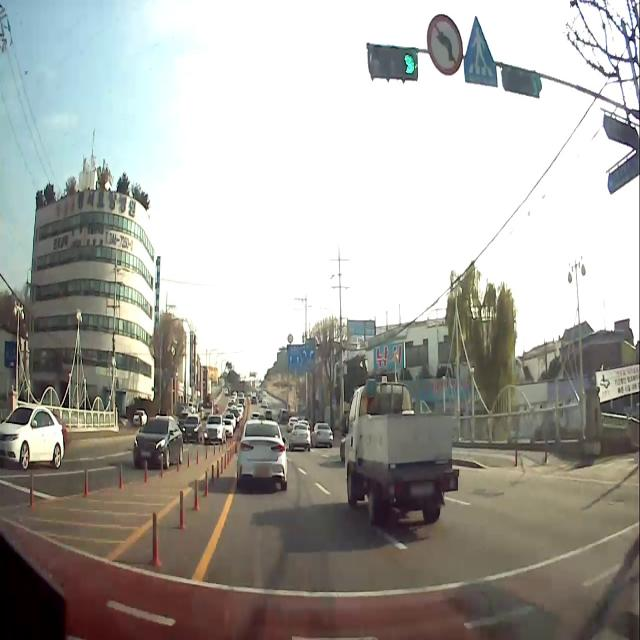Green Light: (402, 48, 417, 76), (528, 68, 542, 98)
